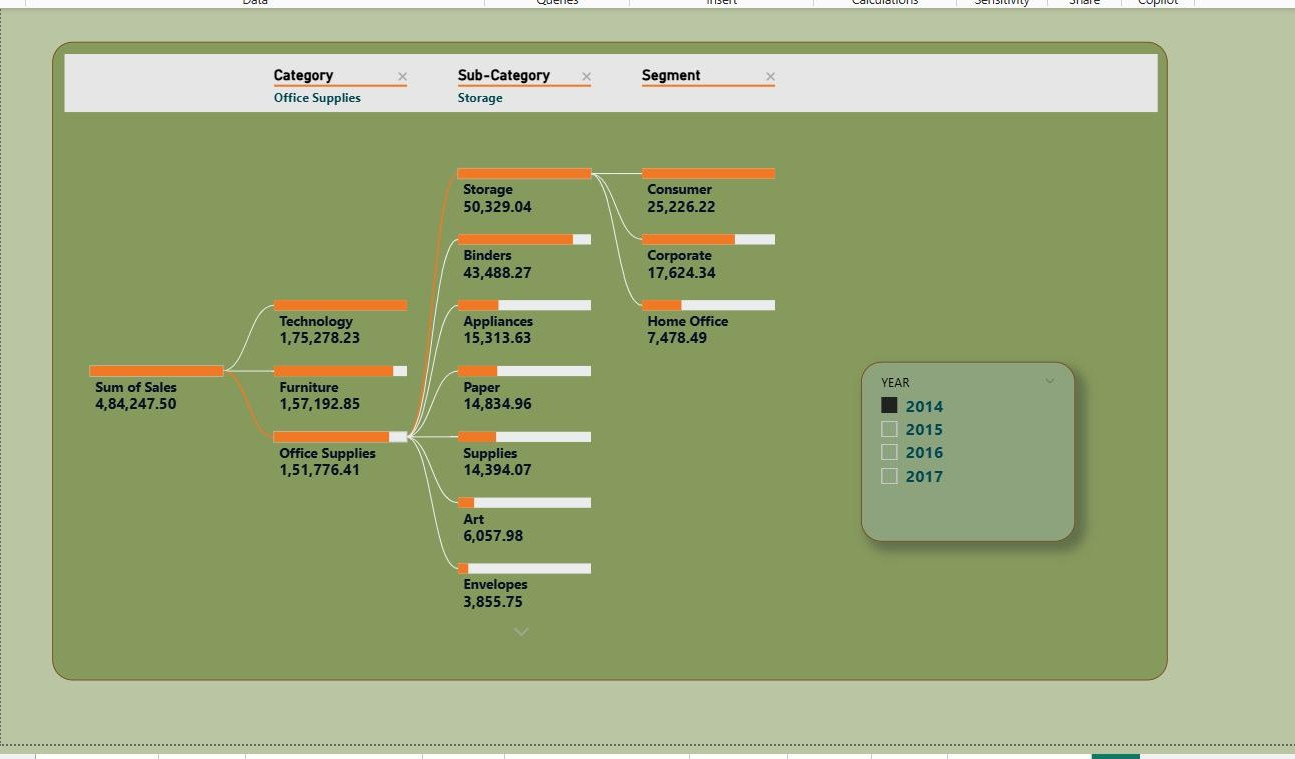

This screenshot's page, from the dashboard's own definition file:
{"tool":"powerbi","page":{"name":"Decomposition tree ","canvas":[1280,720],"ordinal":4},"visuals":[{"type":"decompositionTreeVisual","fields":{"ExplainBy":["Orders.Category","Orders.Sub-Category","Orders.Segment"],"Analyze":["Sum(Orders.Sales)"]},"box":[49.5,33,1091.4,624.9],"z":0},{"type":"slicer","fields":{"Values":["DATE TABLE.YEAR"]},"box":[840.9,345.5,209.2,176.2],"z":1000}]}

Visuals, with their boxes on the page's 1280x720 design canvas (x1, y1, x2, y2). These are canvas units, not pixel positions in the 1295x759 screenshot, which may show the page scaled, cropped or inside an application window:
decompositionTreeVisual - Orders.Category x Orders.Sub-Category: [left=50, top=33, right=1141, bottom=658]
slicer - DATE TABLE.YEAR: [left=841, top=346, right=1050, bottom=522]
